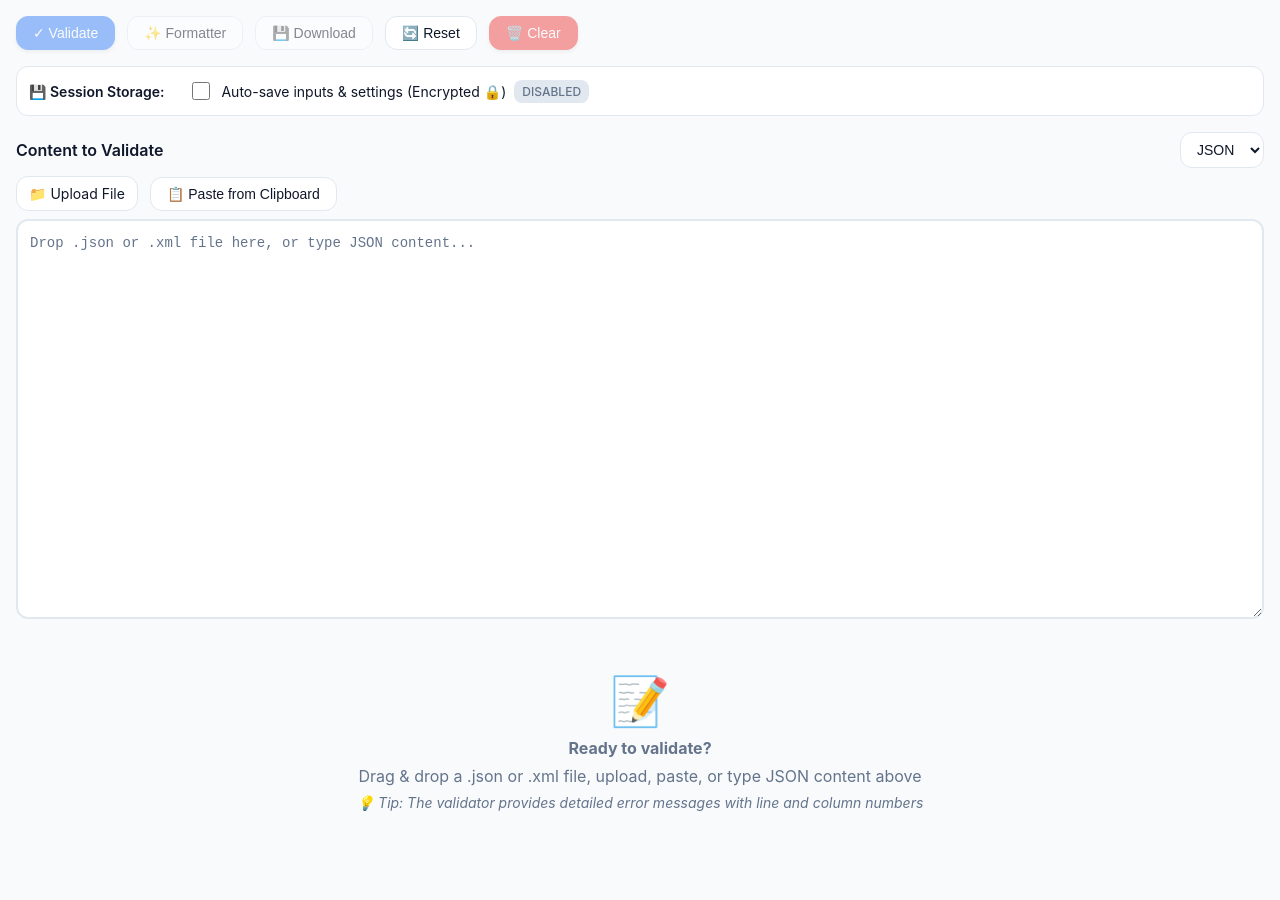
Test: Validator Component › JSON Validation - Valid › should validate array JSON
Type "[1, 2, 3]" into the text box with placeholder "Drop .json or .xml file here, or type JSON content..." at (640, 419), box [16, 219, 1264, 619]
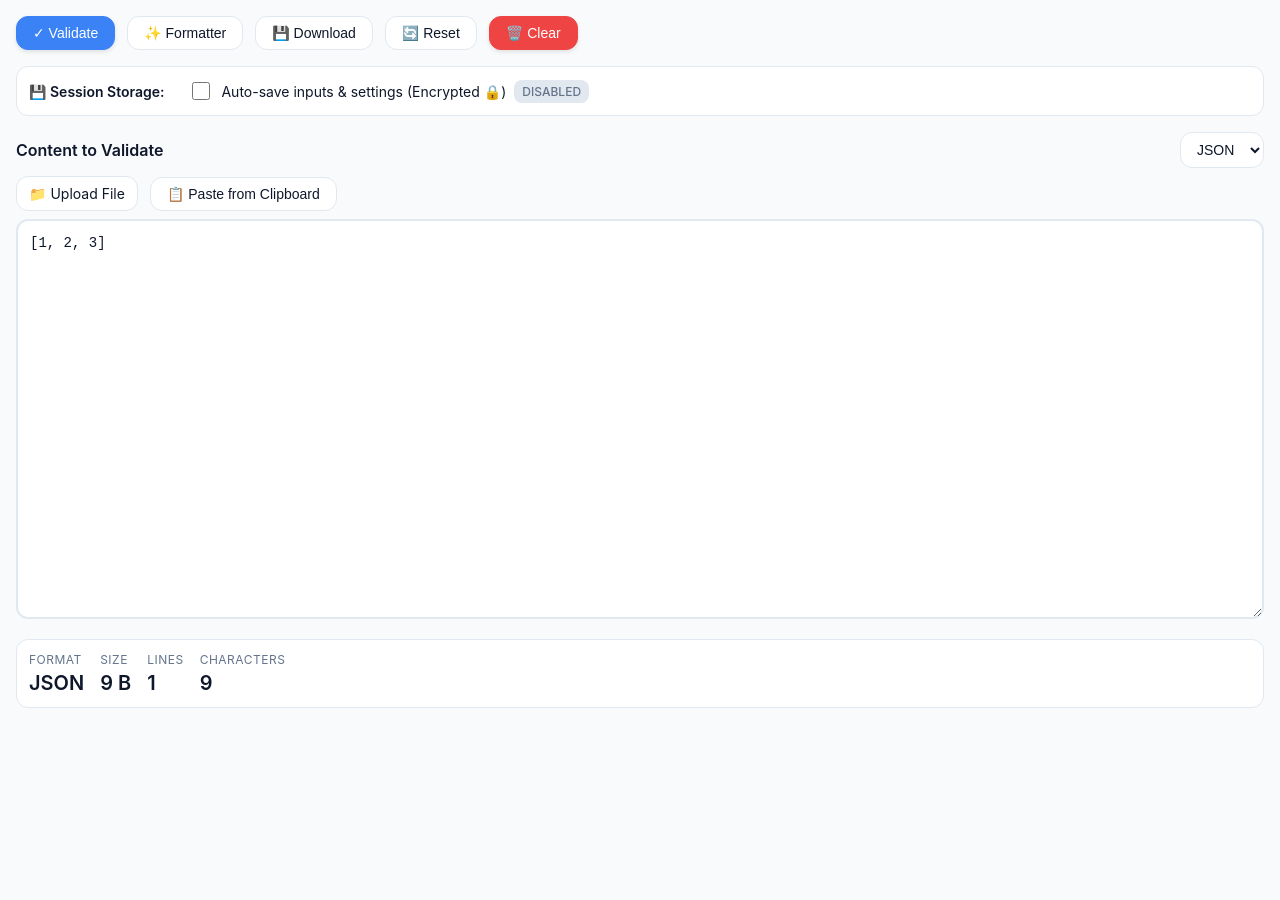
Click the button "✓ Validate" at (66, 33), box [16, 16, 115, 50]
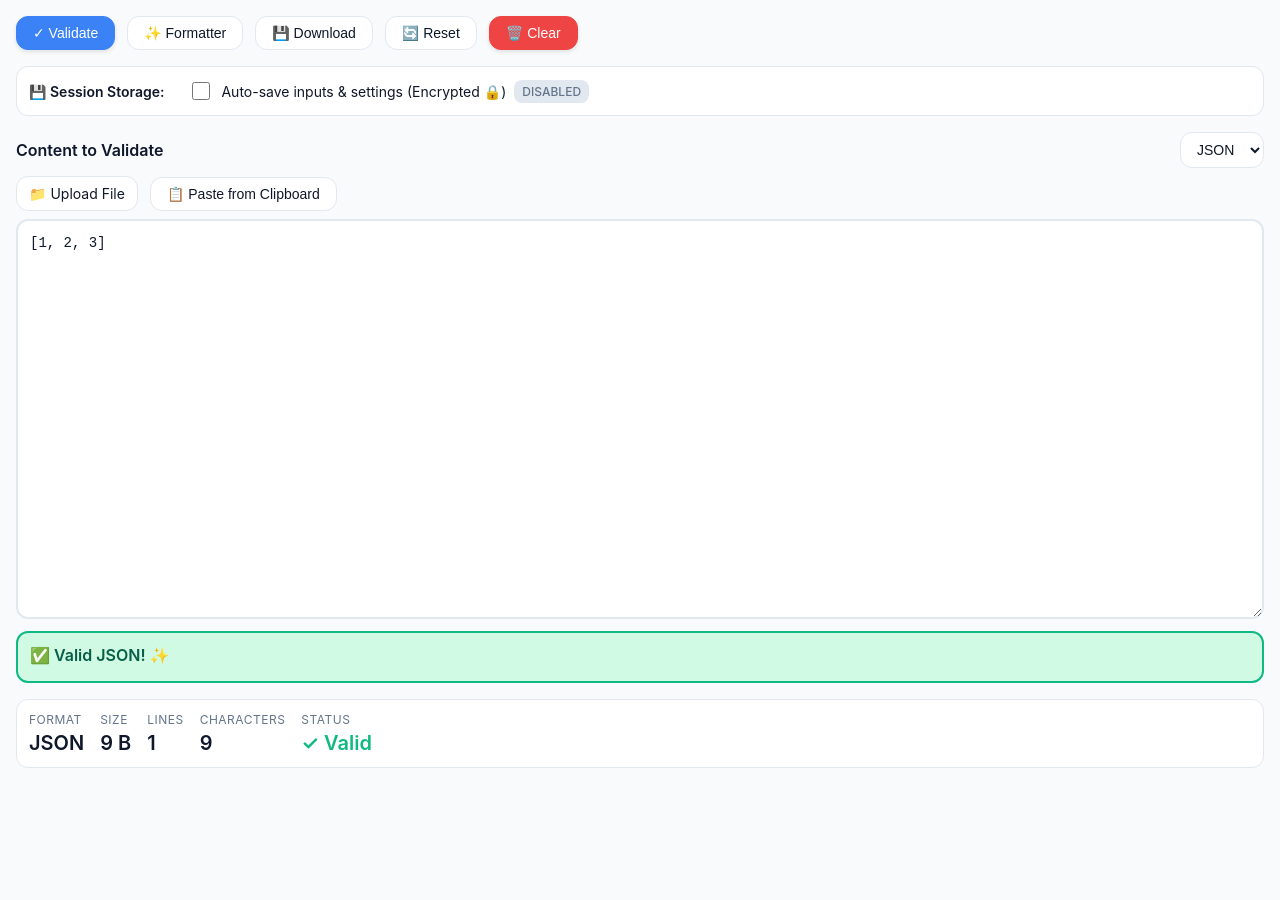
Now the text "✅ Valid JSON! ✨" is shown, box [30, 645, 170, 665]
